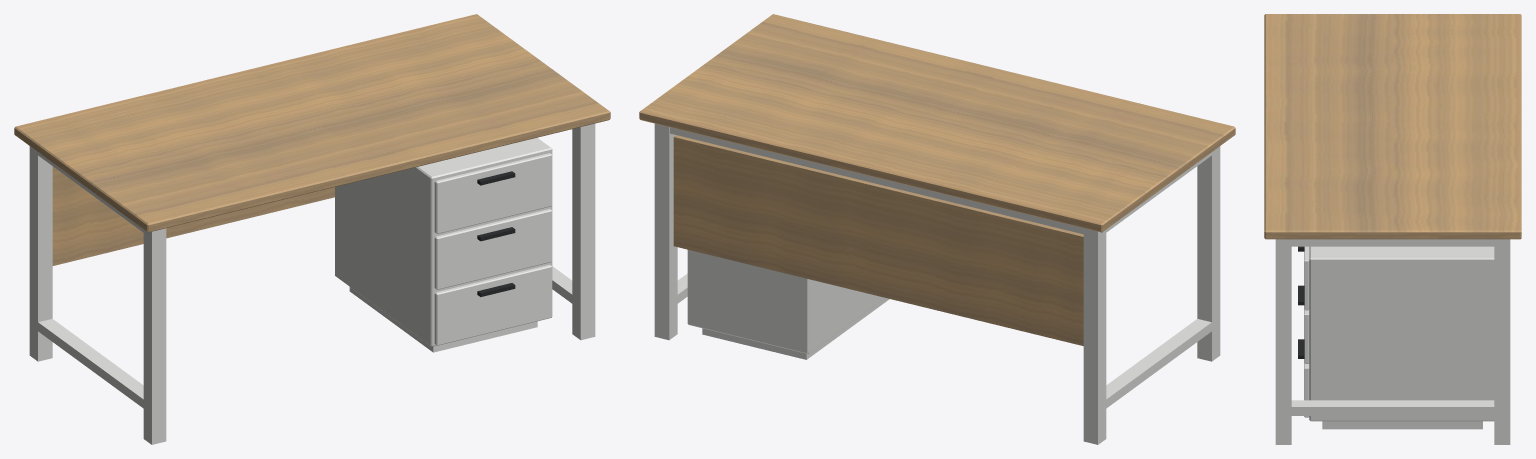
Rendered from desk.glb.
The picture shows the model from 3 angles, left to right: view 1: azimuth 30°, elevation 25°; view 2: azimuth 150°, elevation 25°; view 3: azimuth 270°, elevation 25°; orthographic projection. The views are drawn at different scales.
Parts seen in each view (by area): view 1: desk; view 2: desk; view 3: desk.
Part boxes in pixels (box(x1,y1,x2,y2)): desk: box(14, 14, 610, 444); desk: box(639, 14, 1235, 444); desk: box(1264, 14, 1521, 444).
Size of the model in its own units: 1.6 by 0.75 by 0.8.
3 materials, 1 textured.
